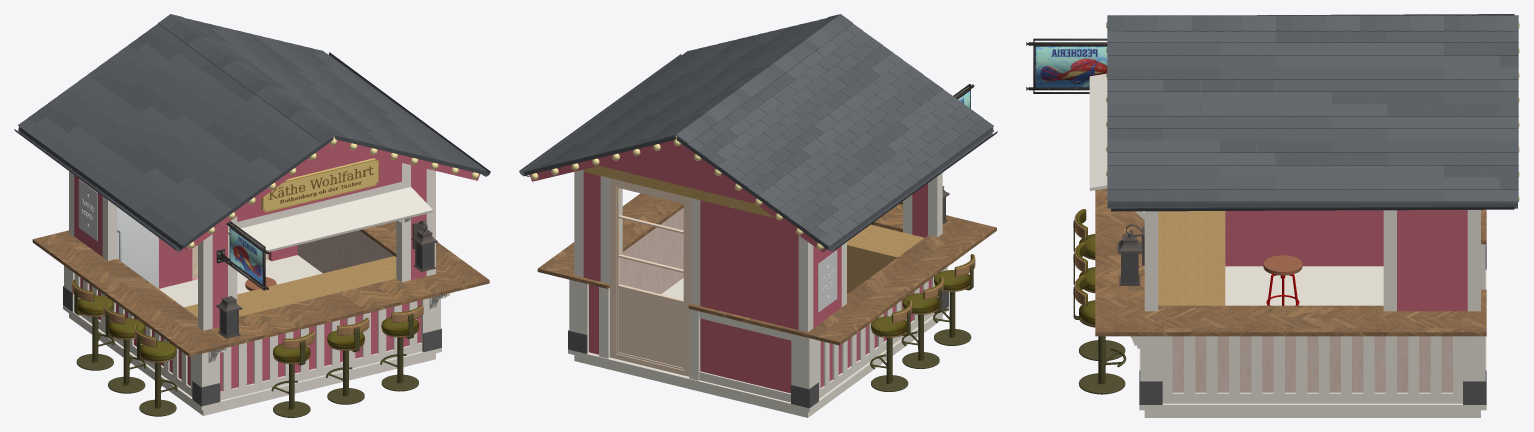
3 views of the same model, side by side, from view 1: azimuth 30°, elevation 25°; view 2: azimuth 150°, elevation 25°; view 3: azimuth 270°, elevation 25° (orthographic). The views are drawn at different scales.
Visible parts, largest first — view 1: Geom3D (×19), Geom3D_ (×13), Geom3D_Vách treo đèn#3 (×2), Geom3D_Component#171 (×2), Geom3D_Thanh dinh, Geom3D_Bo goc (×2), Geom3D_Component#6, Geom3D_Component#226, Geom3D_Component#231, Geom3D_Thanh dinh#1; view 2: Geom3D (×13), Geom3D_ (×12), Geom3D_Vách treo đèn#1, Geom3D_Component#169, Geom3D_Component#171 (×3), Geom3D_Bo goc (×2), Geom3D_Component#7 (×2), Geom3D_Vách treo đèn#2, Geom3D_Thanh dinh#3 (×2), Geom3D_Thanh dinh#1, Geom3D_Vách treo đèn#3; view 3: Geom3D (×14), Geom3D_ (×21), Geom3D_Thanh dinh#1, Geom3D_Component#171 (×2), Geom3D_Bo goc (×2), Geom3D_Component#231.
Part boxes in pixels (x1,y1,x2,y2): Geom3D (×19): [14, 14, 490, 417]; Geom3D_ (×13): [63, 137, 480, 415]; Geom3D_Vách treo đèn#3 (×2): [212, 165, 426, 328]; Geom3D_Component#171 (×2): [198, 169, 435, 330]; Geom3D_Thanh dinh: [220, 342, 421, 400]; Geom3D_Bo goc (×2): [193, 298, 440, 387]; Geom3D_Component#6: [237, 182, 401, 228]; Geom3D_Component#226: [396, 163, 410, 282]; Geom3D_Component#231: [102, 196, 117, 260]; Geom3D_Thanh dinh#1: [78, 311, 192, 396]; Geom3D (×13): [519, 14, 997, 408]; Geom3D_ (×12): [529, 138, 948, 417]; Geom3D_Vách treo đèn#1: [700, 200, 798, 329]; Geom3D_Component#169: [611, 180, 689, 376]; Geom3D_Component#171 (×3): [574, 169, 942, 332]; Geom3D_Bo goc (×2): [569, 279, 818, 388]; Geom3D_Component#7 (×2): [600, 176, 700, 305]; Geom3D_Vách treo đèn#2: [583, 172, 600, 281]; Geom3D_Thanh dinh#3 (×2): [699, 311, 791, 402]; Geom3D_Thanh dinh#1: [819, 312, 934, 398]; Geom3D_Vách treo đèn#3: [912, 183, 927, 237]; Geom3D (×14): [1035, 14, 1518, 404]; Geom3D_ (×21): [1089, 73, 1486, 417]; Geom3D_Thanh dinh#1: [1162, 392, 1462, 403]; Geom3D_Component#171 (×2): [1144, 210, 1480, 311]; Geom3D_Bo goc (×2): [1140, 336, 1485, 381]; Geom3D_Component#231: [1383, 210, 1396, 311].
Size of the model in its own units: 4.14 by 3.26 by 4.4.
Materials: 45 (11 with a texture image).
